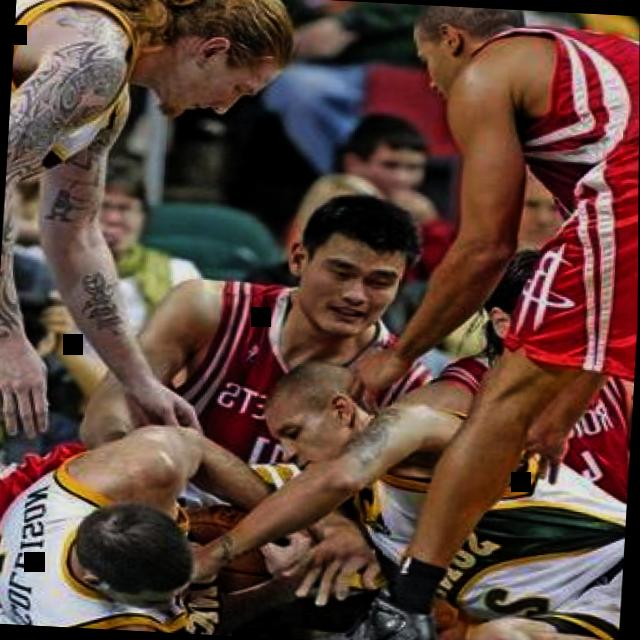Fall-Detected: (0, 400, 279, 638)
